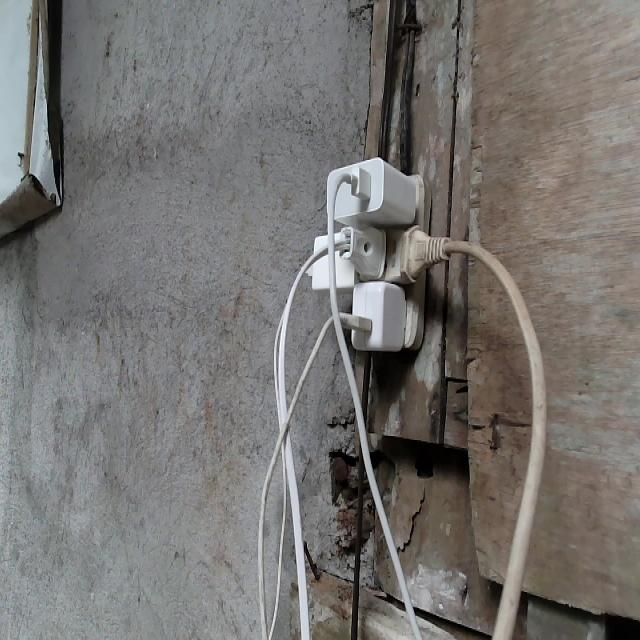-: (297, 155, 453, 352)
